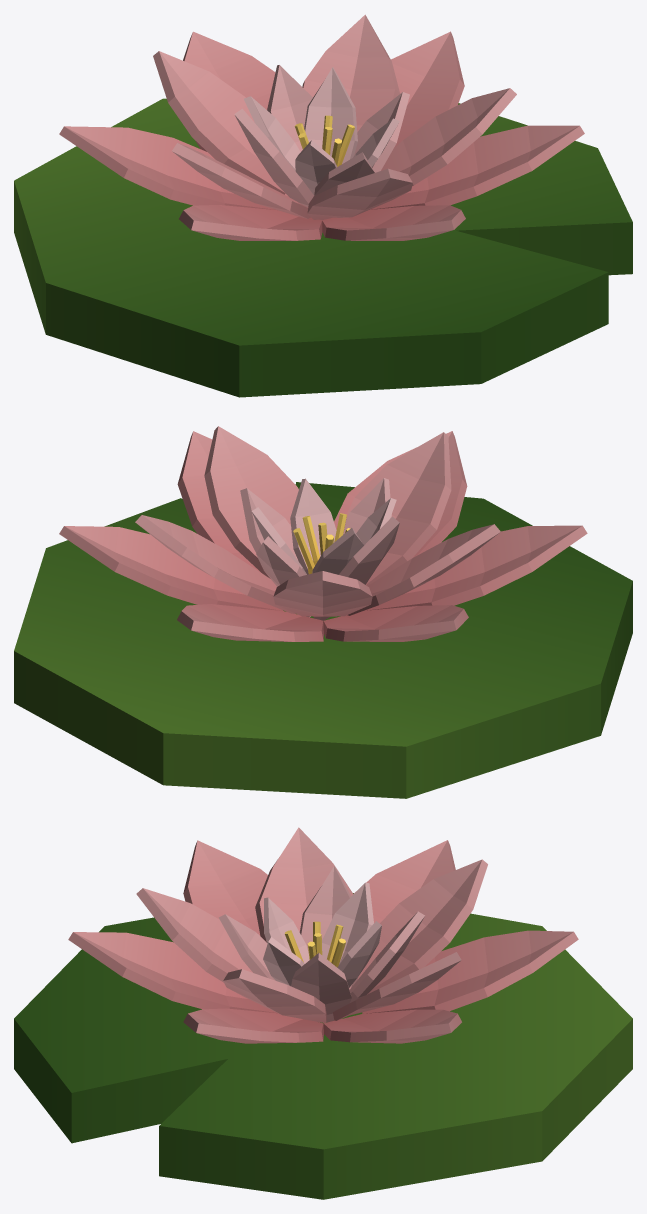
Rendered from water lily pink.fbx.
The picture shows the model from 3 angles, top to bottom: view 1: azimuth 30°, elevation 25°; view 2: azimuth 150°, elevation 25°; view 3: azimuth 270°, elevation 25°; orthographic projection. The views are drawn at different scales.
Visible parts, largest first — view 1: water lily pink; view 2: water lily pink; view 3: water lily pink.
Part boxes in pixels (<box>): water lily pink: <box>14,14,632,397</box>; water lily pink: <box>14,426,632,798</box>; water lily pink: <box>14,827,632,1199</box>.
Bounding box in the file's own units: 63.18 × 19.28 × 63.18.
